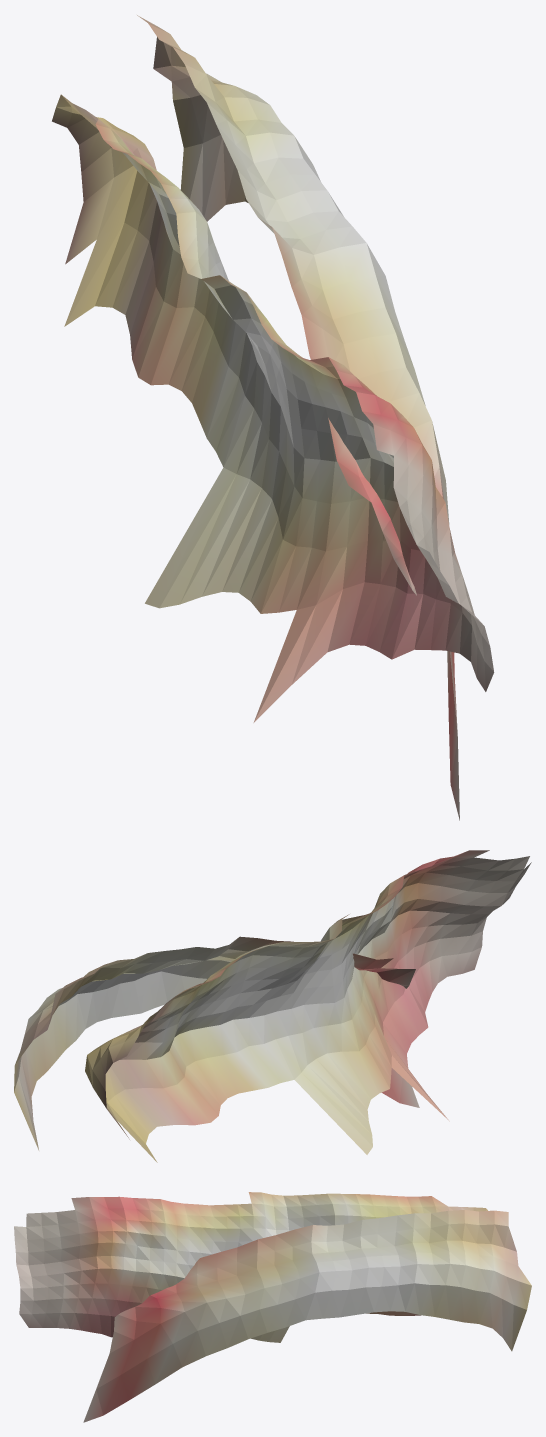
The model's file is entity-signal-light-4.glb.
The picture shows the model from 3 angles, top to bottom: view 1: azimuth 30°, elevation 25°; view 2: azimuth 150°, elevation 25°; view 3: azimuth 270°, elevation 25°; orthographic projection. The views are drawn at different scales.
Parts seen in each view (by area): view 1: geometry_0; view 2: geometry_0; view 3: geometry_0.
Boxes of the visible parts, left/top/right/bottom form: geometry_0: left=52, top=15, right=494, bottom=820; geometry_0: left=14, top=850, right=531, bottom=1162; geometry_0: left=14, top=1192, right=531, bottom=1422.
Bounding box in the file's own units: 0.1366 × 0.1948 × 0.3865.
